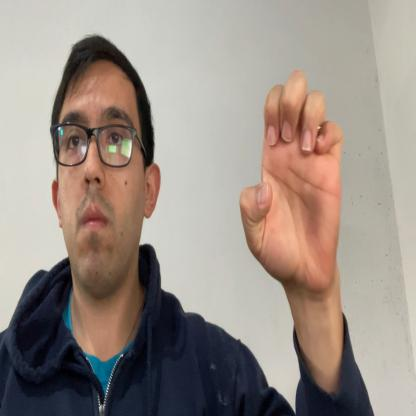E: (239, 70, 344, 296)
